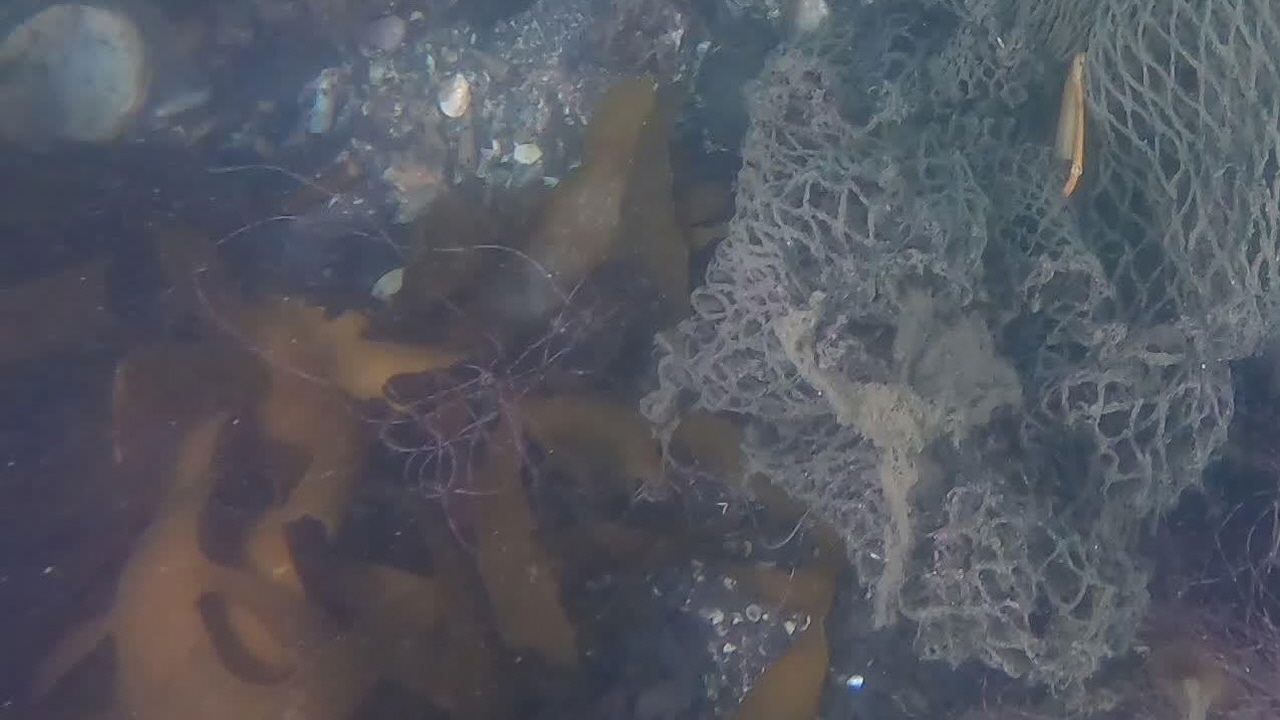fish net: (634, 0, 1280, 690)
